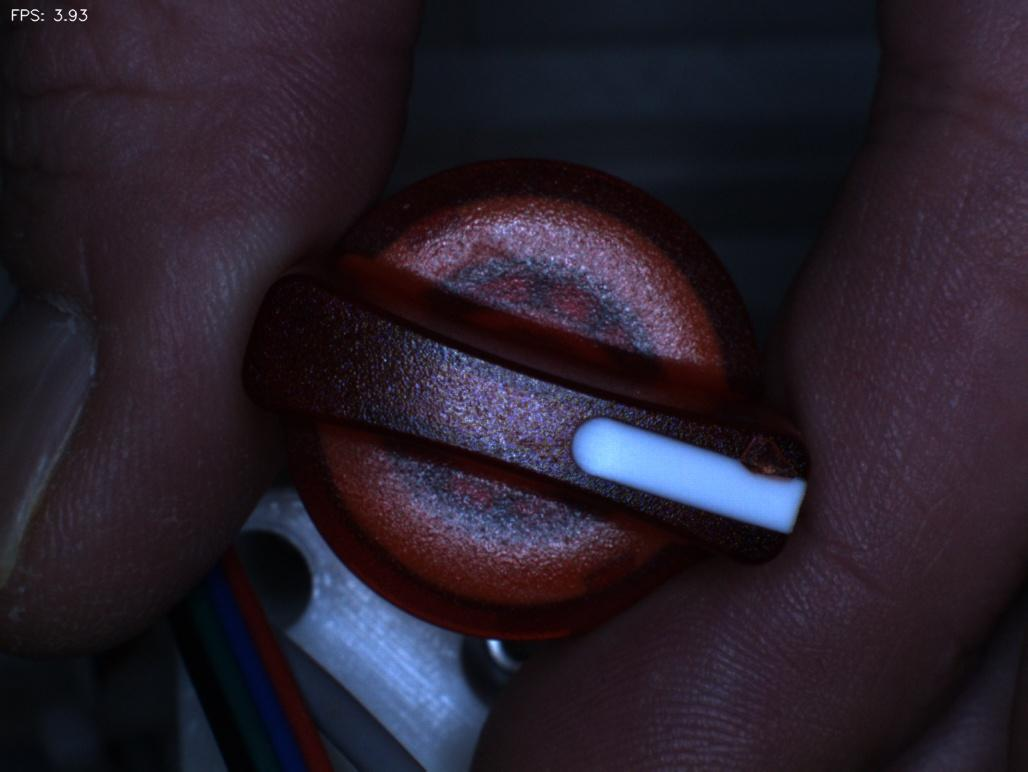Choc: (733, 406, 826, 508)
